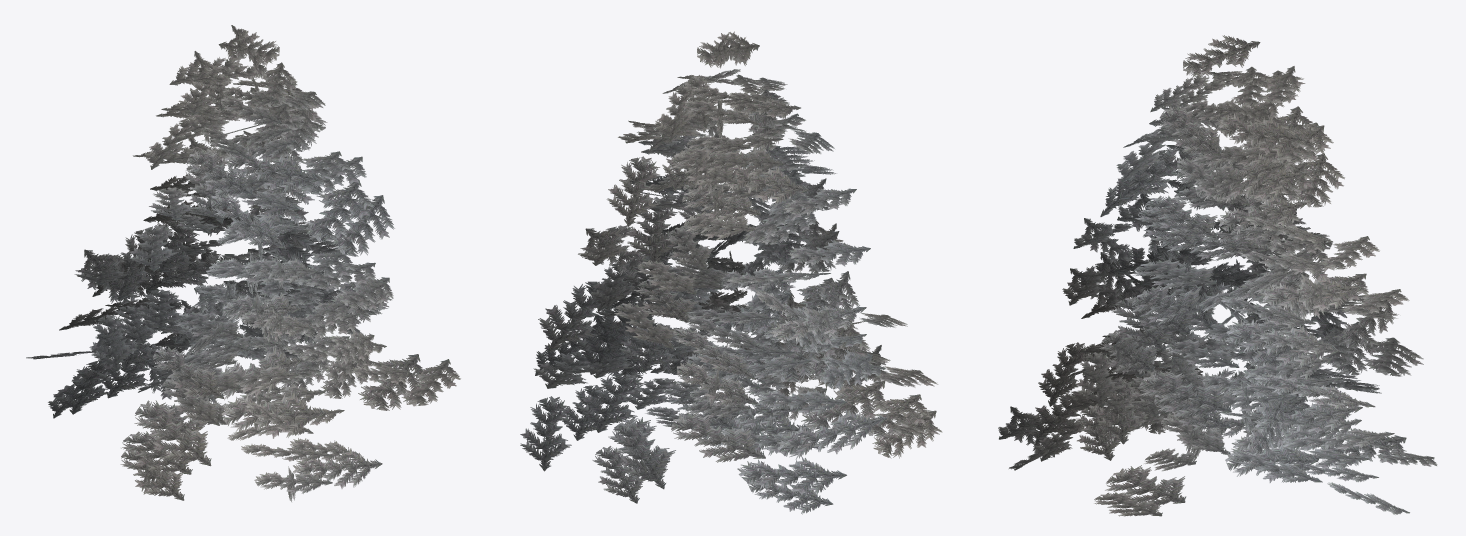
File: dwarf_pine_l0.gltf
3 renders of one model, left to right at view 1: azimuth 30°, elevation 25°; view 2: azimuth 150°, elevation 25°; view 3: azimuth 270°, elevation 25°, orthographic. The views are drawn at different scales.
Visible parts, largest first — view 1: dwarf_pine_l0; view 2: dwarf_pine_l0; view 3: dwarf_pine_l0.
Part boxes in pixels (left/top/right/bottom): dwarf_pine_l0: left=26, top=25, right=460, bottom=502; dwarf_pine_l0: left=520, top=31, right=942, bottom=514; dwarf_pine_l0: left=998, top=35, right=1437, bottom=516.
Size of the model in its own units: 3.88 by 4.07 by 3.69.
Materials: 1 (1 with a texture image).
